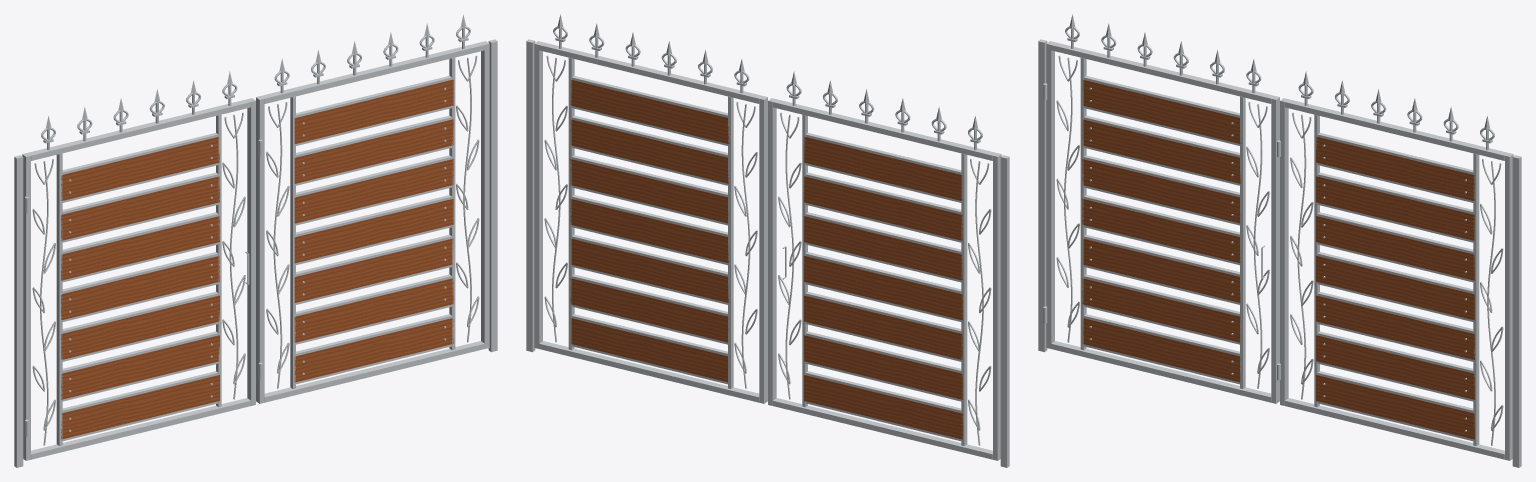
Rendered from silver-floral-wood-accent-gate-12.glb.
3 views of the same model, side by side, from view 1: azimuth 30°, elevation 25°; view 2: azimuth 150°, elevation 25°; view 3: azimuth 330°, elevation 25° (orthographic).
Parts seen in each view (by area): view 1: Leaf 2 / Wood accent board, Leaf 1 / Wood accent board, Leaf 2 / Leaf frame, Leaf 1 / Leaf frame, Leaf 1 / Silver edging above and below wood, Leaf 2 / Silver edging above and below wood, Outer installation jamb, Leaf 1 / Floral border stile, Leaf 2 / Floral border stile, Leaf 2 / Pointed botanical leaf, Leaf 1 / Pointed botanical leaf, Leaf 1 / Winding floral stem (+3 smaller); view 2: Leaf 1 / Wood accent board, Leaf 2 / Wood accent board, Leaf 2 / Leaf frame, Leaf 1 / Leaf frame, Leaf 1 / Silver edging above and below wood, Leaf 2 / Silver edging above and below wood, Outer installation jamb, Leaf 2 / Floral border stile, Leaf 1 / Floral border stile, Leaf 2 / Pointed botanical leaf, Leaf 1 / Pointed botanical leaf, Leaf 1 / Winding floral stem (+3 smaller); view 3: Leaf 2 / Wood accent board, Leaf 1 / Wood accent board, Leaf 1 / Leaf frame, Leaf 2 / Leaf frame, Leaf 2 / Silver edging above and below wood, Leaf 1 / Silver edging above and below wood, Outer installation jamb, Leaf 1 / Floral border stile, Leaf 2 / Floral border stile, Leaf 2 / Pointed botanical leaf, Leaf 1 / Pointed botanical leaf, Leaf 1 / Winding floral stem (+3 smaller).
Part boxes in pixels (box(x1,y1,x2,y2)): Leaf 2 / Wood accent board: box(294, 79, 453, 382); Leaf 1 / Wood accent board: box(61, 137, 219, 439); Leaf 2 / Leaf frame: box(256, 41, 489, 403); Leaf 1 / Leaf frame: box(22, 98, 255, 460); Leaf 1 / Silver edging above and below wood: box(62, 133, 218, 441); Leaf 2 / Silver edging above and below wood: box(296, 76, 451, 384); Outer installation jamb: box(14, 39, 497, 467); Leaf 1 / Floral border stile: box(56, 114, 221, 445); Leaf 2 / Floral border stile: box(290, 57, 455, 388); Leaf 2 / Pointed botanical leaf: box(266, 105, 479, 373); Leaf 1 / Pointed botanical leaf: box(32, 162, 245, 430); Leaf 1 / Winding floral stem: box(40, 114, 238, 445); Leaf 1 / Wood accent board: box(804, 136, 962, 439); Leaf 2 / Wood accent board: box(570, 80, 729, 382); Leaf 2 / Leaf frame: box(534, 41, 767, 403); Leaf 1 / Leaf frame: box(768, 98, 1001, 460); Leaf 1 / Silver edging above and below wood: box(805, 133, 961, 441); Leaf 2 / Silver edging above and below wood: box(572, 76, 727, 384); Outer installation jamb: box(526, 39, 1009, 467); Leaf 2 / Floral border stile: box(568, 57, 733, 388); Leaf 1 / Floral border stile: box(802, 114, 967, 445); Leaf 2 / Pointed botanical leaf: box(544, 105, 757, 373); Leaf 1 / Pointed botanical leaf: box(778, 162, 991, 430); Leaf 1 / Winding floral stem: box(785, 114, 983, 445); Leaf 2 / Wood accent board: box(1316, 137, 1474, 439); Leaf 1 / Wood accent board: box(1082, 80, 1241, 382); Leaf 1 / Leaf frame: box(1046, 41, 1279, 403); Leaf 2 / Leaf frame: box(1280, 98, 1513, 460); Leaf 2 / Silver edging above and below wood: box(1317, 133, 1473, 441); Leaf 1 / Silver edging above and below wood: box(1084, 76, 1239, 384); Outer installation jamb: box(1038, 39, 1521, 467); Leaf 1 / Floral border stile: box(1080, 57, 1245, 388); Leaf 2 / Floral border stile: box(1314, 114, 1479, 445); Leaf 2 / Pointed botanical leaf: box(1290, 157, 1503, 430); Leaf 1 / Pointed botanical leaf: box(1056, 100, 1269, 373); Leaf 1 / Winding floral stem: box(1064, 57, 1262, 388).
Size of the model in its own units: 3.3 by 2.25 by 0.088.
Materials: 2 (1 with a texture image).
